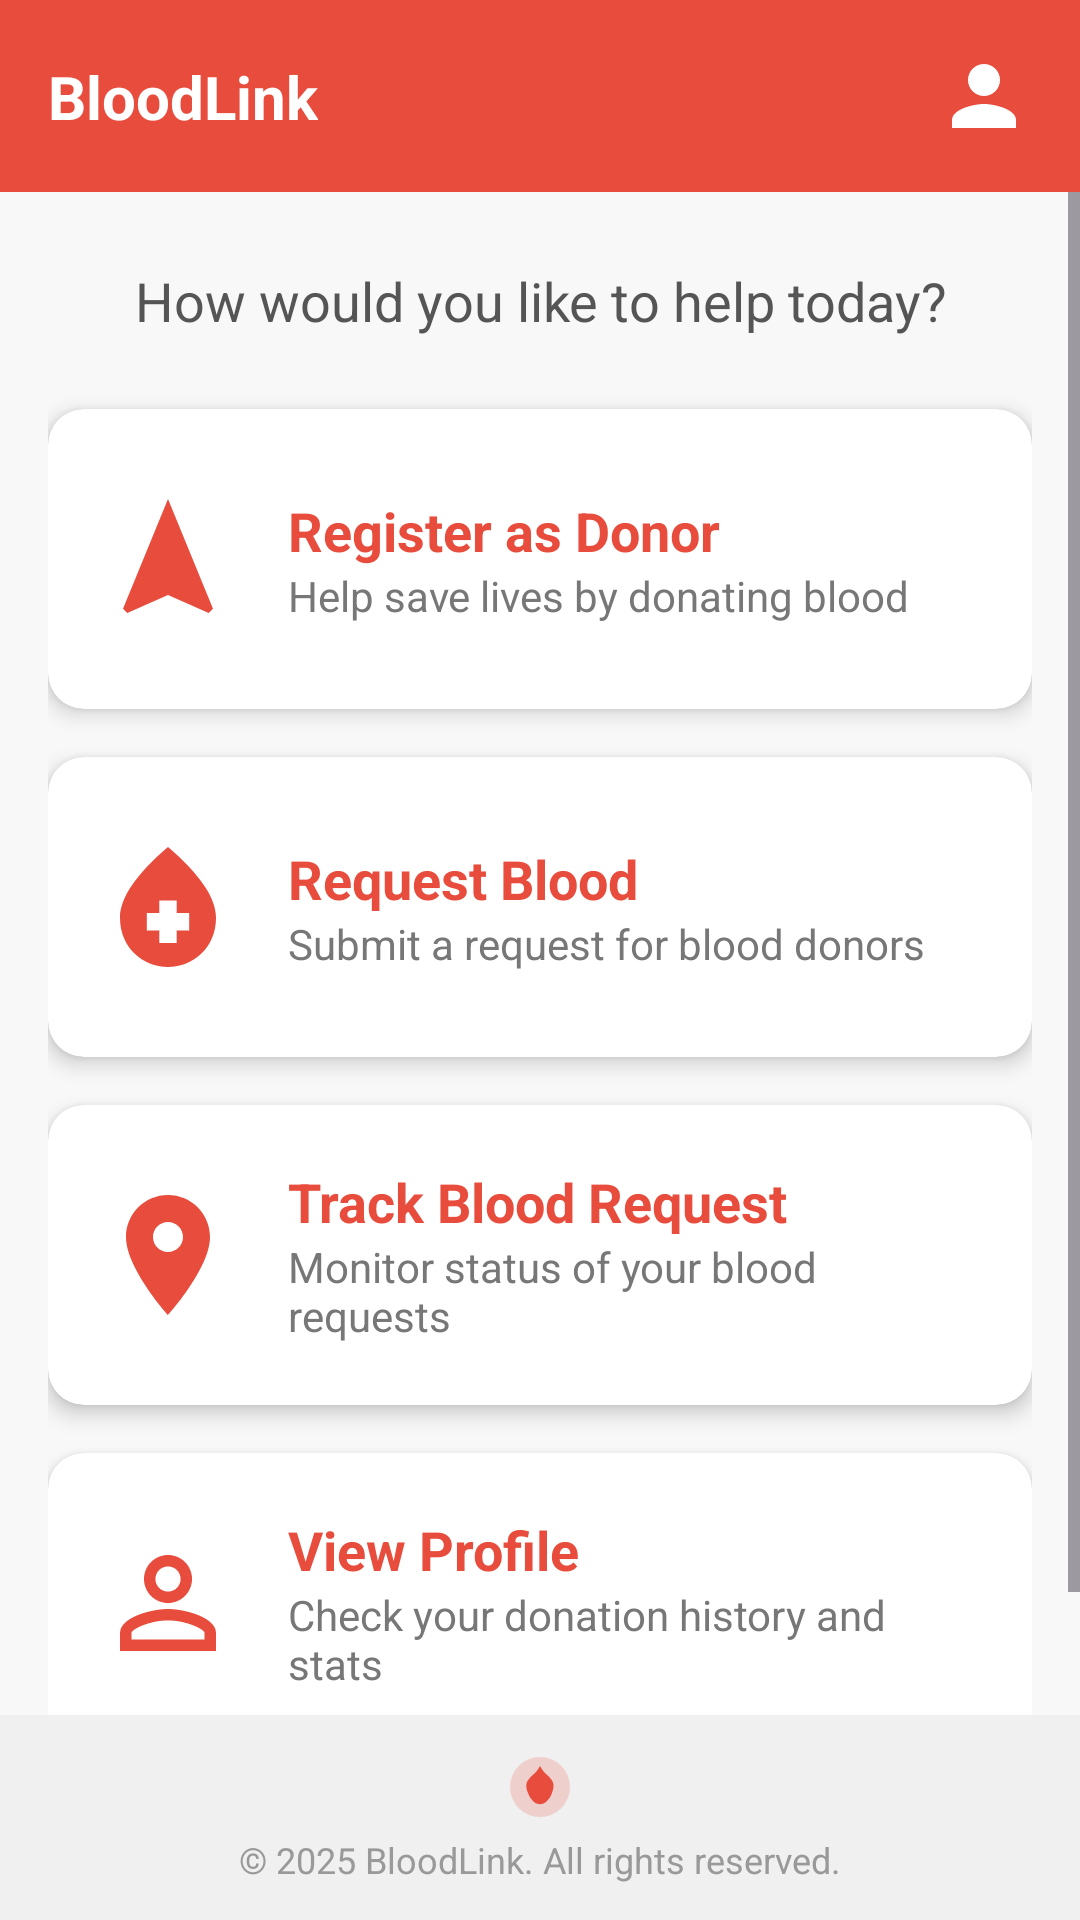

Where icons sit on this 1080w x 1920h app screen, as (x1, y1, x2, y2):
profile: (952, 64, 1016, 128)
